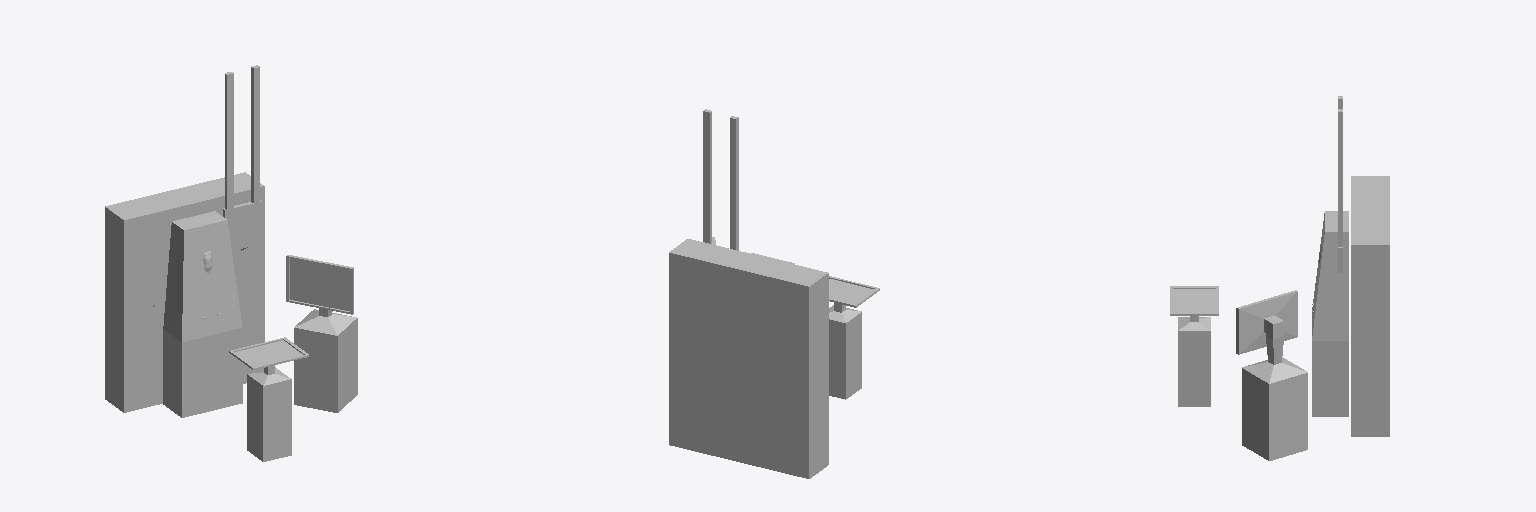
File: Cryo-Props.obj
3 views of the same model, side by side, from view 1: azimuth 30°, elevation 25°; view 2: azimuth 150°, elevation 25°; view 3: azimuth 270°, elevation 25° (orthographic).
Visible parts, largest first — view 1: group6_pCube9 group4; view 2: group6_pCube9 group4; view 3: group6_pCube9 group4.
Part boxes in pixels (x1,y1,x2,y2): group6_pCube9 group4: (105, 65, 357, 461); group6_pCube9 group4: (669, 109, 879, 478); group6_pCube9 group4: (1170, 96, 1389, 460).
Bounding box in the file's own units: 5.62 × 8.91 × 5.54.